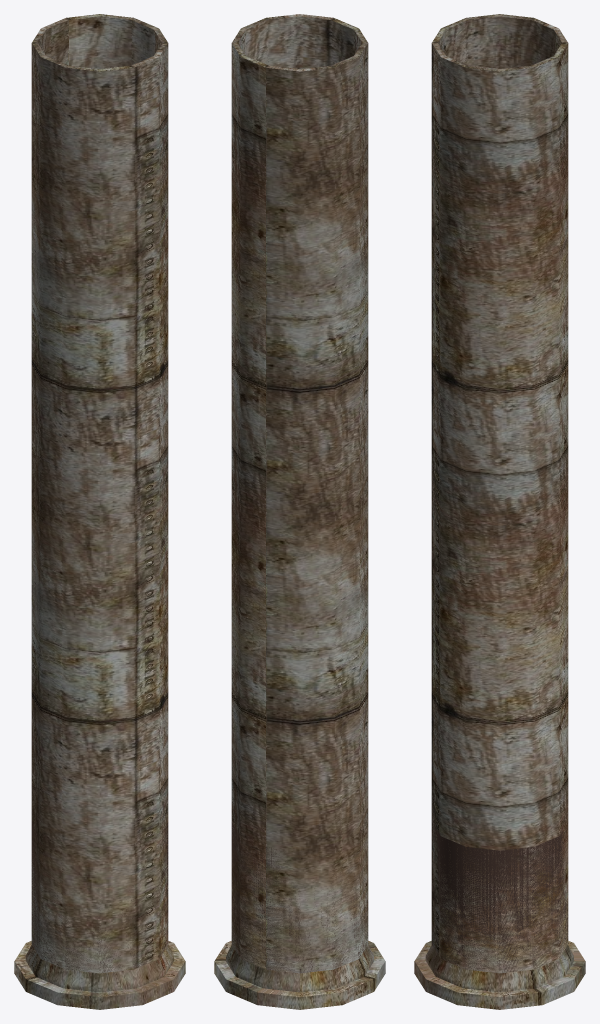
The model's file is railpipe05.glb.
The picture shows the model from 3 angles, left to right: view 1: azimuth 30°, elevation 25°; view 2: azimuth 150°, elevation 25°; view 3: azimuth 270°, elevation 25°; orthographic projection.
Size of the model in its own units: 82.76 by 497 by 82.76.
2 materials, 2 textured.
